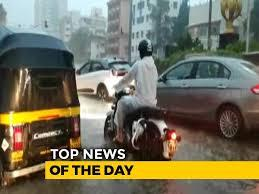helmet: (137, 37, 154, 62)
